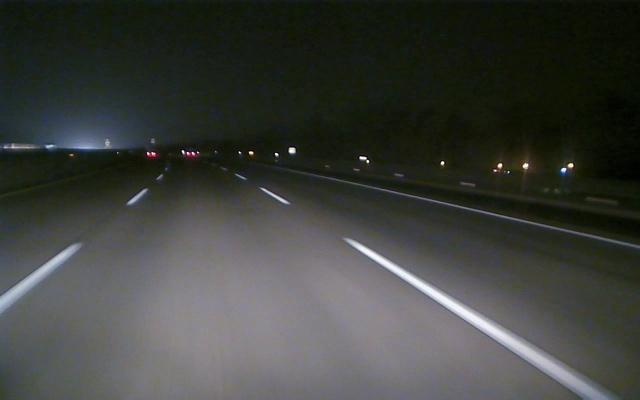lane: (259, 188, 612, 399), (353, 182, 640, 250), (1, 188, 148, 312)
